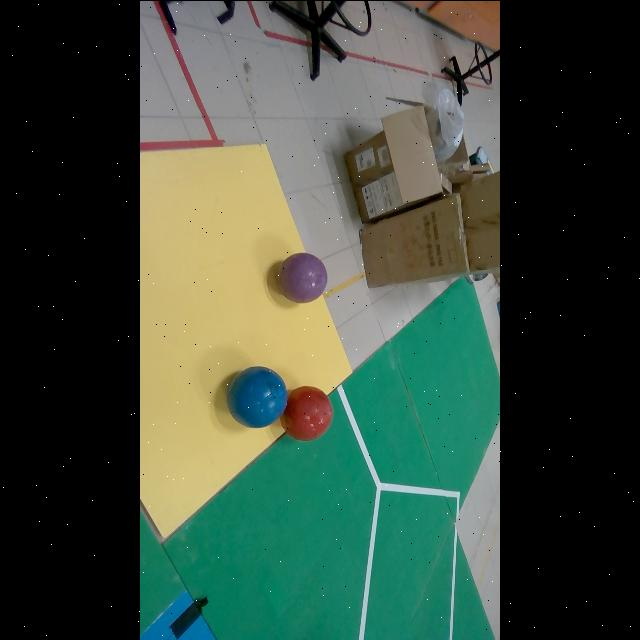B: (227, 365, 288, 427)
P: (278, 252, 327, 302)
R: (281, 385, 333, 439)
